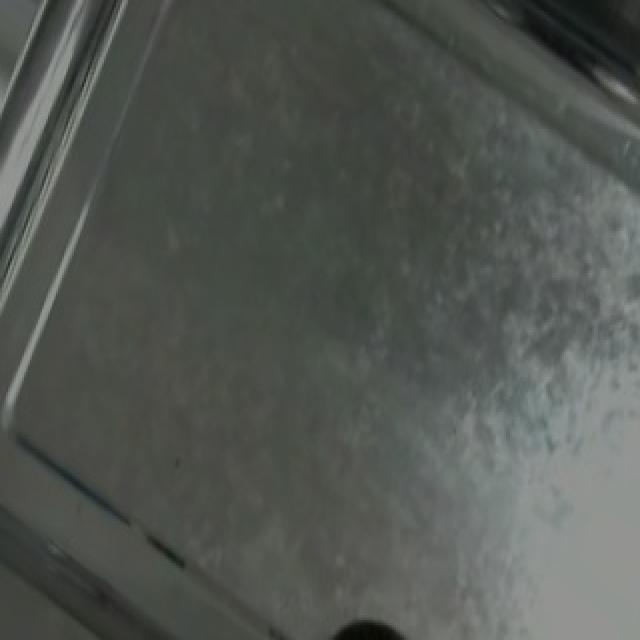Fruit: (304, 605, 434, 640)
